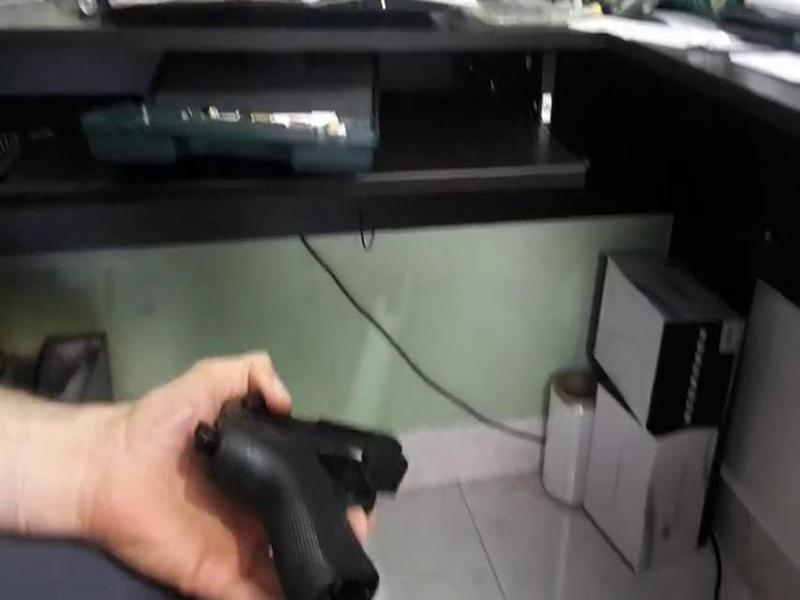Pistola: (177, 372, 427, 600)
